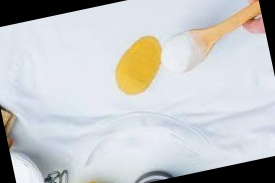mustard: (109, 38, 159, 100), (139, 32, 162, 75), (135, 39, 162, 60)
